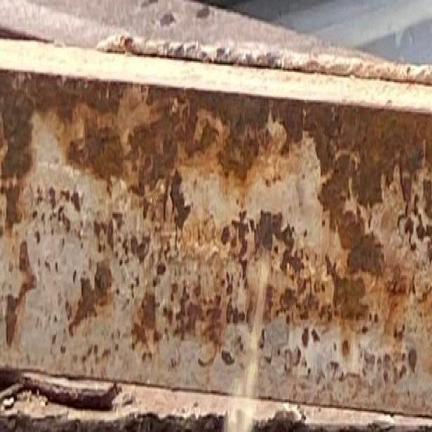karat: (0, 68, 431, 318)
